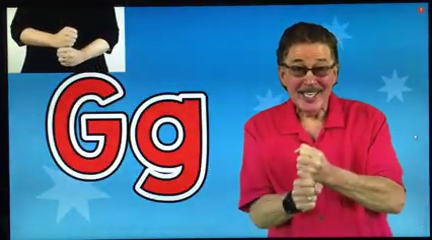G: (290, 140, 331, 212), (54, 26, 84, 72)
